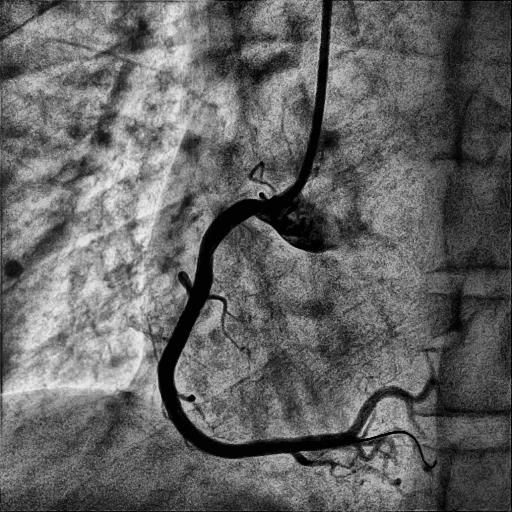pborca: (350, 374, 436, 437)
rca: (158, 198, 354, 459)
